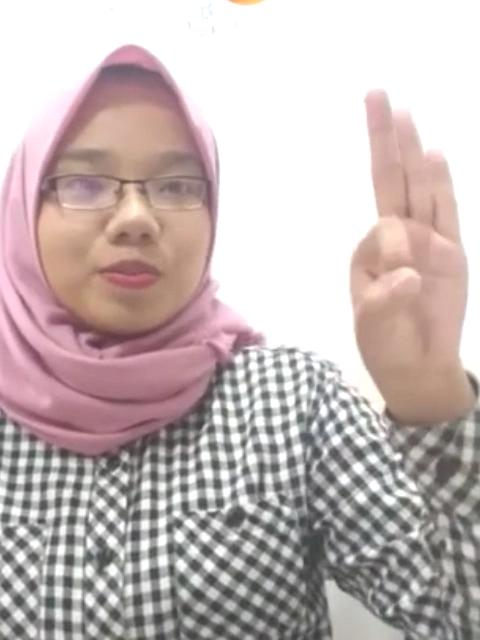F: (339, 86, 473, 380)
